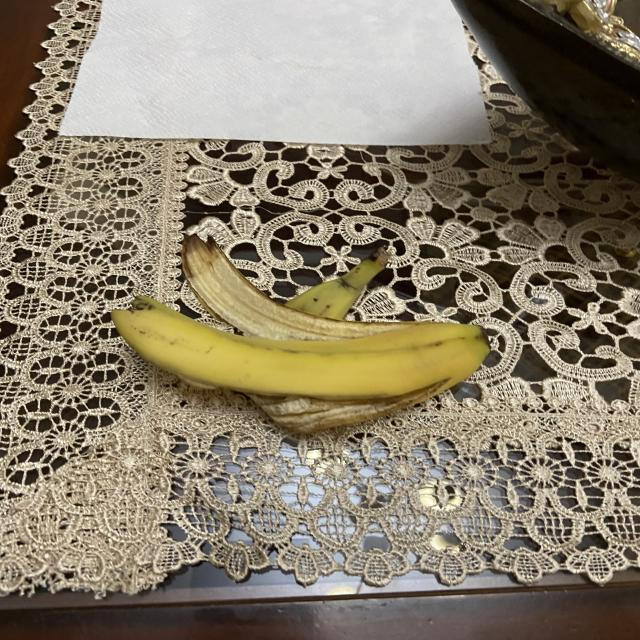banana-peel: (109, 232, 491, 434)
